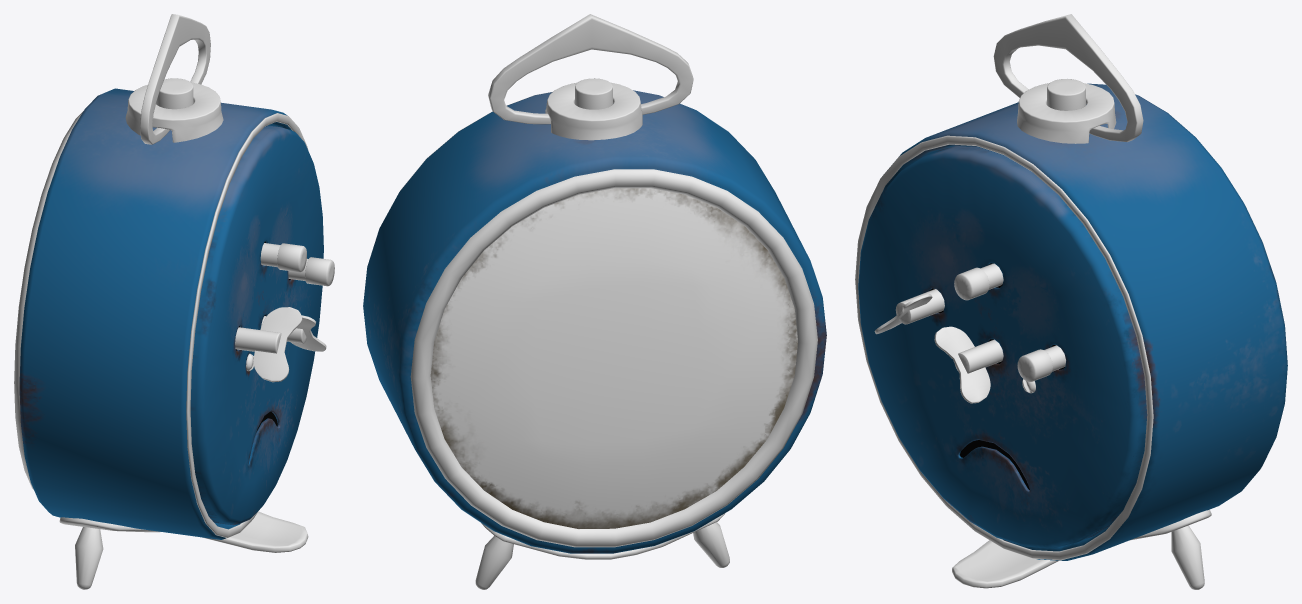
Rendered from будильник sf.fbx.
3 renders of one model, left to right at view 1: azimuth 30°, elevation 25°; view 2: azimuth 150°, elevation 25°; view 3: azimuth 270°, elevation 25°, orthographic. The views are drawn at different scales.
Parts seen in each view (by area): view 1: BUDILNIK; view 2: BUDILNIK; view 3: BUDILNIK.
Part boxes in pixels (x1,y1,x2,y2): BUDILNIK: (14,14,334,589); BUDILNIK: (363,14,826,589); BUDILNIK: (855,14,1287,589).
Bounding box in the file's own units: 209 × 283 × 201.
